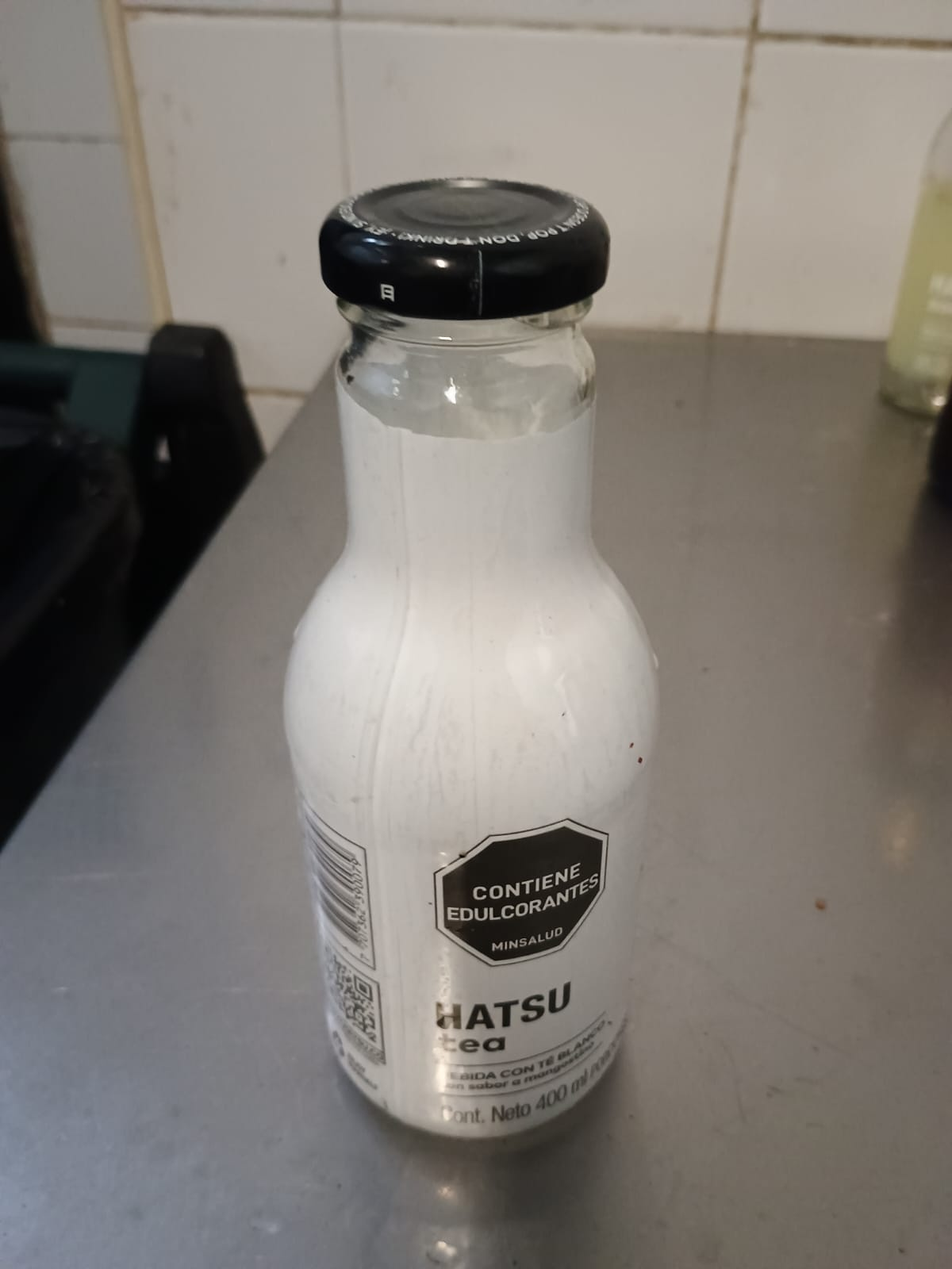Metal: (317, 175, 613, 303)
Vidrio: (281, 310, 659, 1140)
